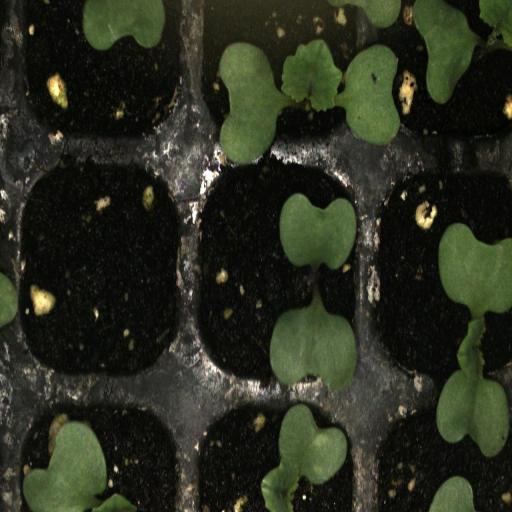Folha: (23, 420, 137, 512), (269, 298, 360, 394), (279, 193, 357, 270), (83, 0, 166, 51)
Germinacao: (183, 154, 366, 395), (369, 163, 512, 400), (182, 0, 371, 153)
